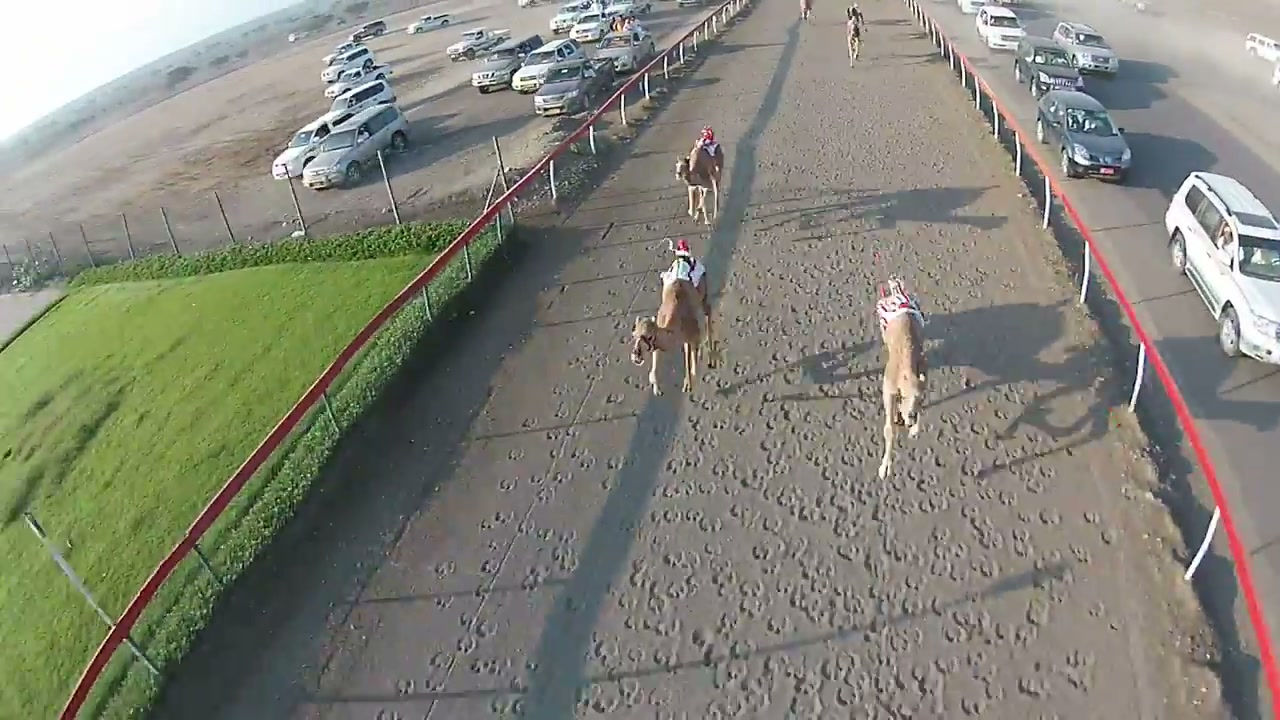animal_footprint: (591, 211, 1070, 697), (428, 220, 658, 713)
